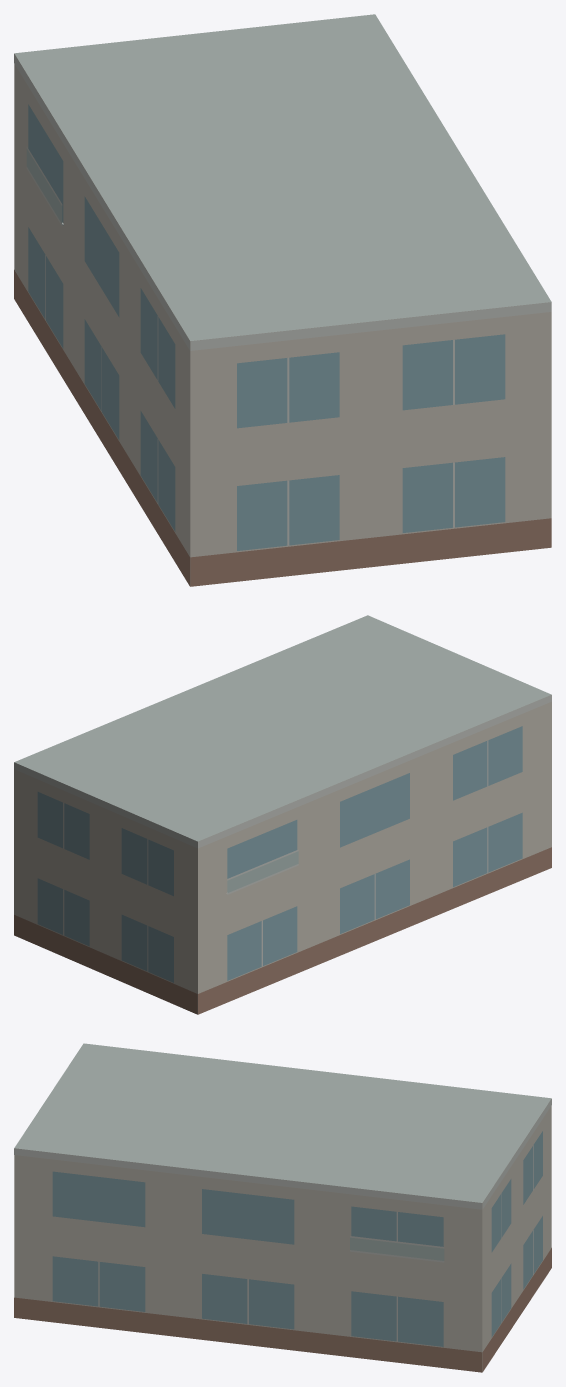
File: survey-upis-32818323.glb
3 renders of one model, top to bottom at view 1: azimuth 30°, elevation 25°; view 2: azimuth 150°, elevation 25°; view 3: azimuth 270°, elevation 25°, orthographic. The views are drawn at different scales.
Visible parts, largest first — view 1: survey-upis-32818323.tmp; view 2: survey-upis-32818323.tmp; view 3: survey-upis-32818323.tmp.
Part boxes in pixels (x1=…): survey-upis-32818323.tmp: x1=14, y1=14, x2=551, y2=586; survey-upis-32818323.tmp: x1=14, y1=615, x2=551, y2=1014; survey-upis-32818323.tmp: x1=14, y1=1043, x2=551, y2=1372.
Size of the model in its own units: 12.33 by 6.1 by 17.54.
